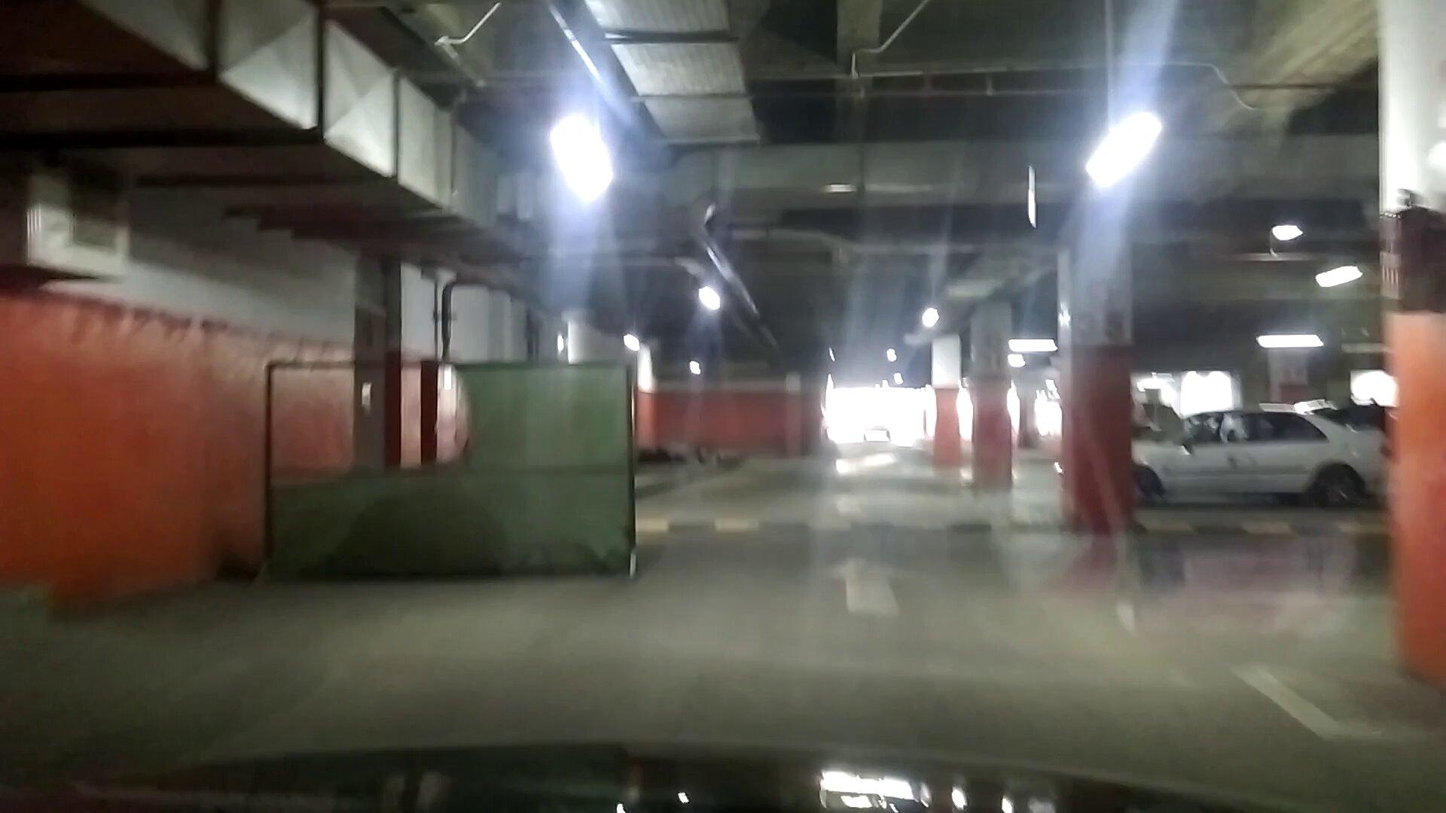Bump: (635, 515, 1082, 535)
